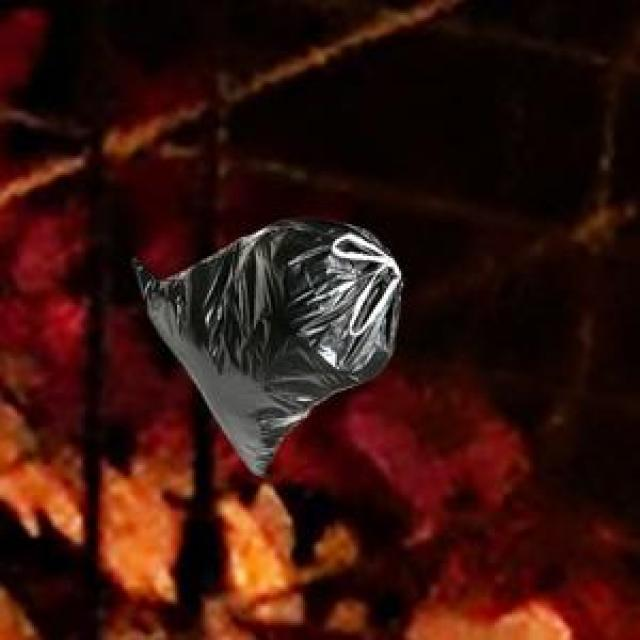waste: (135, 220, 402, 474)
